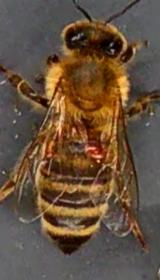varroa_mite: (71, 142, 110, 165)
